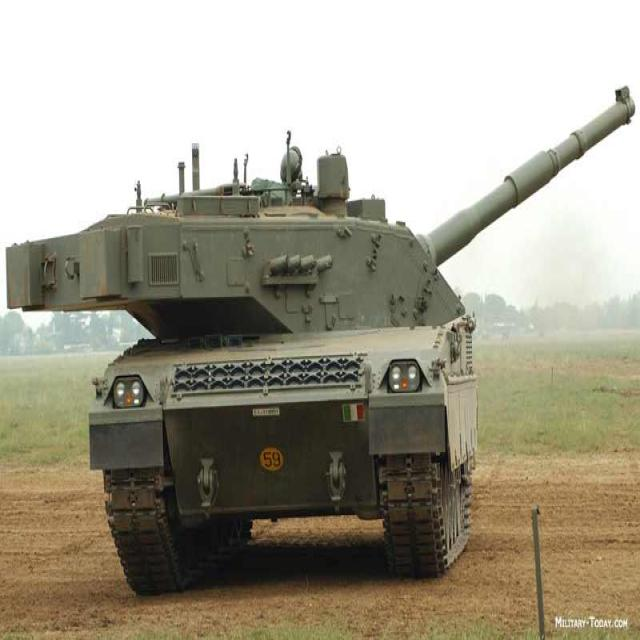Tank: (6, 74, 640, 584)
